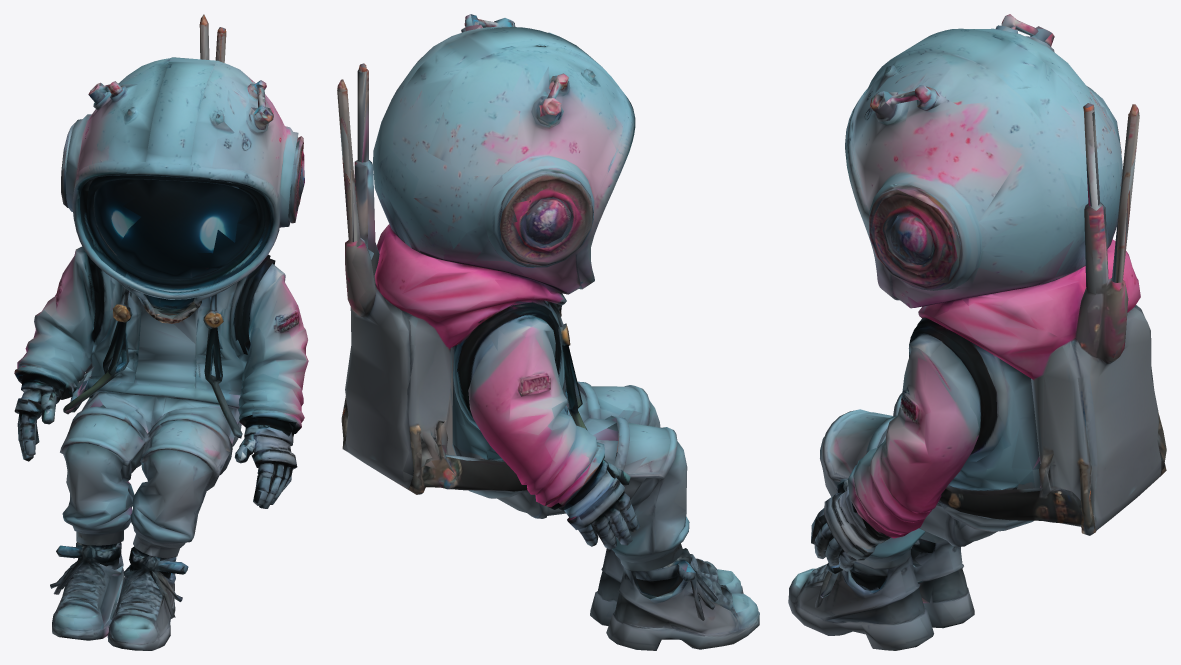
File: auto-driver-candidate.glb
3 renders of one model, left to right at view 1: azimuth 30°, elevation 25°; view 2: azimuth 150°, elevation 25°; view 3: azimuth 270°, elevation 25°, orthographic. The views are drawn at different scales.
Parts seen in each view (by area): view 1: UserAutoDriver; view 2: UserAutoDriver; view 3: UserAutoDriver.
Boxes of the visible parts, bbox=[...] form: UserAutoDriver: bbox=[14, 14, 308, 650]; UserAutoDriver: bbox=[337, 14, 759, 650]; UserAutoDriver: bbox=[788, 14, 1166, 650].
Bounding box in the file's own units: 0.5963 × 1.03 × 0.5516.
1 material, 1 textured.
